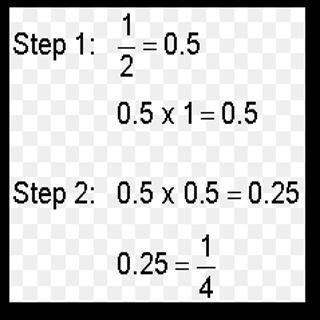.: (261, 196, 271, 207), (178, 45, 185, 59), (131, 117, 140, 127), (235, 117, 242, 129), (132, 196, 139, 207), (198, 197, 206, 206), (131, 267, 137, 277)
0: (112, 248, 133, 279), (113, 176, 132, 208), (218, 98, 236, 131), (245, 177, 263, 209), (160, 28, 177, 59), (114, 97, 132, 126), (181, 178, 199, 205)
1: (69, 28, 88, 59), (198, 228, 215, 261), (118, 11, 138, 39), (181, 98, 194, 129)
2: (138, 248, 155, 279), (270, 177, 286, 209), (118, 52, 135, 80)
4: (193, 273, 217, 300)
5: (185, 25, 204, 61), (242, 96, 260, 132), (204, 178, 221, 208), (152, 248, 169, 278), (284, 179, 301, 207), (138, 97, 153, 127), (140, 177, 154, 208)
